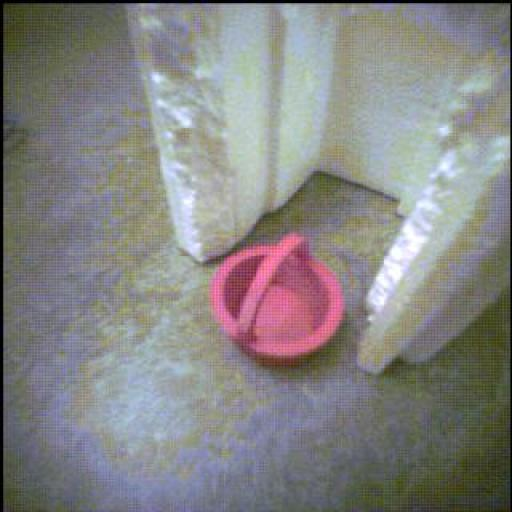Bucket: (211, 235, 345, 364)
